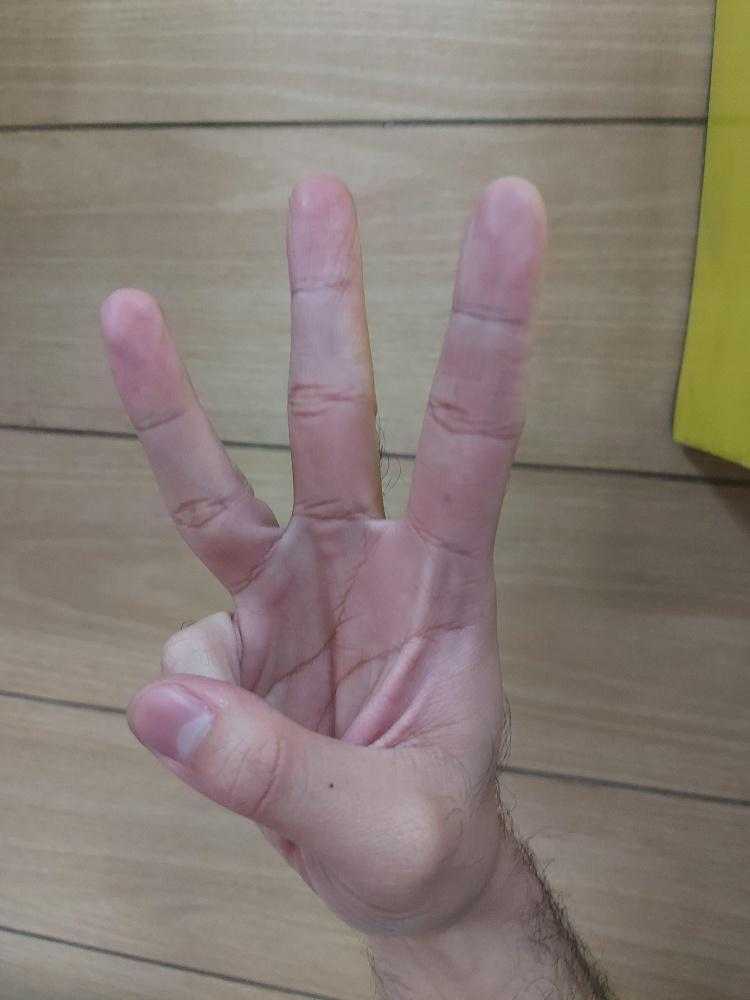w: (96, 167, 552, 935)
